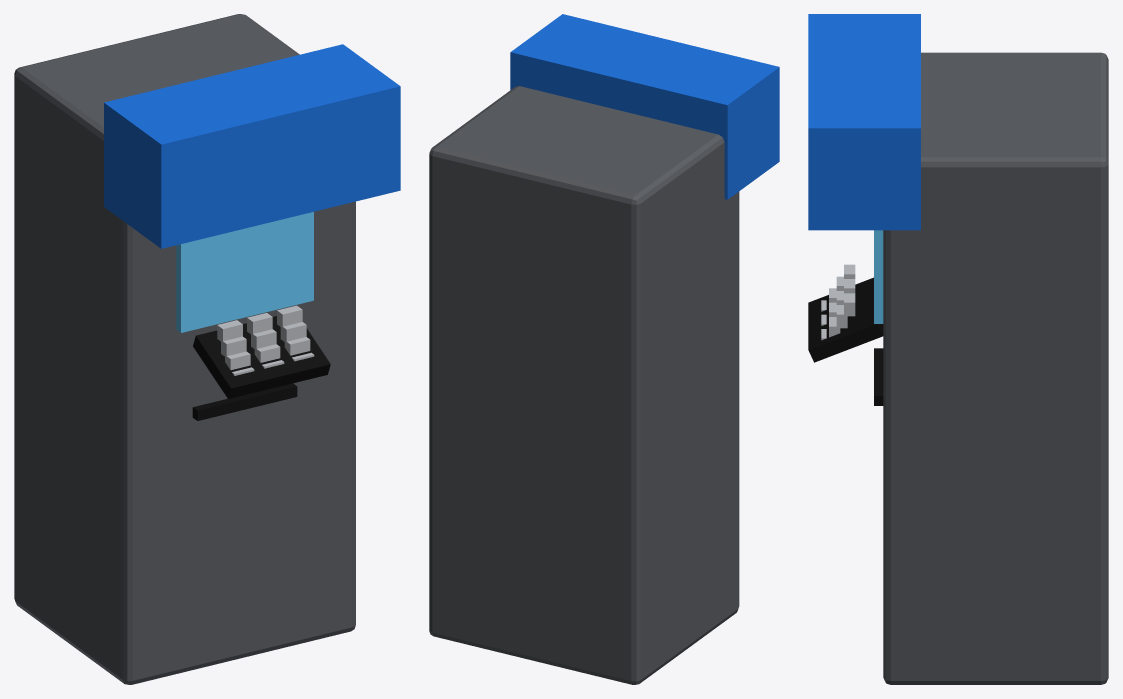
The model's file is atm.glb.
The picture shows the model from 3 angles, left to right: view 1: azimuth 30°, elevation 25°; view 2: azimuth 150°, elevation 25°; view 3: azimuth 270°, elevation 25°; orthographic projection. The views are drawn at different scales.
Visible parts, largest first — view 1: atm; view 2: atm; view 3: atm.
Boxes of the visible parts, x1,y1,x2,y2 form: atm: [14, 14, 400, 684]; atm: [429, 14, 779, 684]; atm: [808, 14, 1108, 684].
Bounding box in the file's own units: 0.72 × 1.65 × 0.8.
1 material, 1 textured.
